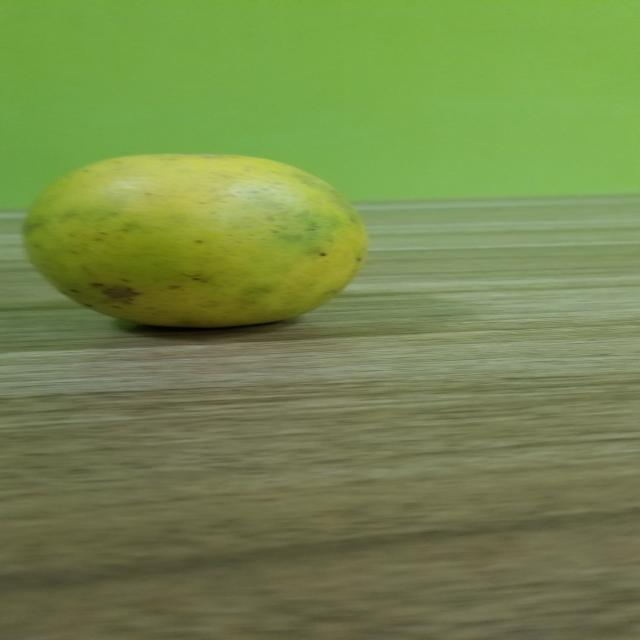Ripe orange: (23, 152, 395, 335)
